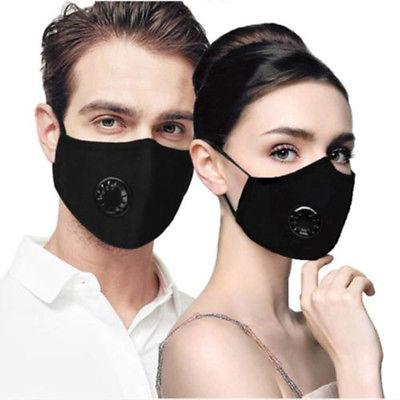Wearing Mask: (30, 7, 197, 258), (213, 24, 370, 274)
